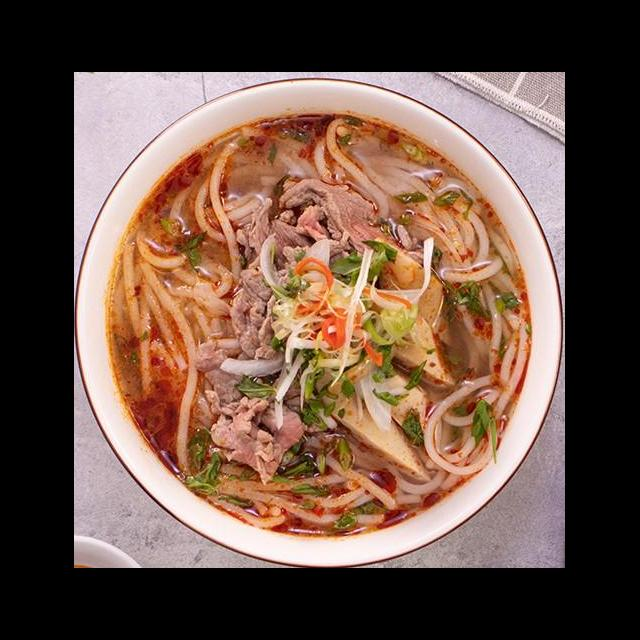bun: (108, 215, 244, 481), (310, 108, 508, 284), (193, 417, 468, 541), (420, 248, 534, 479), (157, 115, 320, 251)
bun bo: (98, 120, 547, 538)
thit bo: (186, 332, 326, 434), (272, 171, 404, 271), (230, 194, 356, 290), (198, 383, 312, 489), (225, 257, 318, 366)
